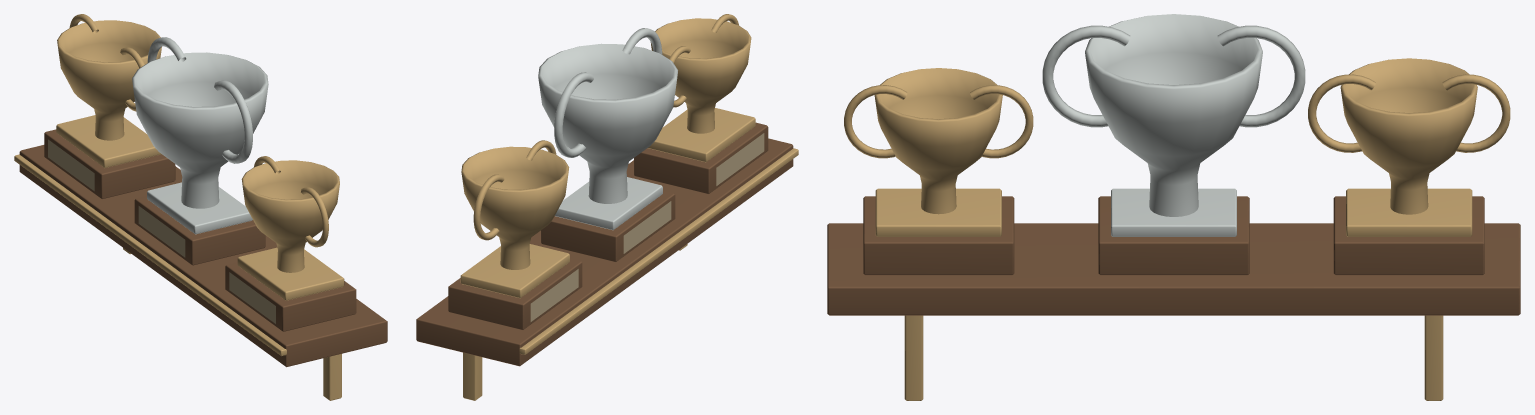
File: club-decor-right.glb
3 views of the same model, side by side, from view 1: azimuth 30°, elevation 25°; view 2: azimuth 150°, elevation 25°; view 3: azimuth 270°, elevation 25° (orthographic). The views are drawn at different scales.
Parts seen in each view (by area): view 1: club-decor-right.001; view 2: club-decor-right.001; view 3: club-decor-right.001.
Boxes of the visible parts, x1,y1,x2,y2 form: club-decor-right.001: [14, 14, 387, 400]; club-decor-right.001: [416, 14, 798, 400]; club-decor-right.001: [827, 14, 1520, 400].
Size of the model in its own units: 0.72 by 1.56 by 2.8.
Materials: 4 (1 with a texture image).
